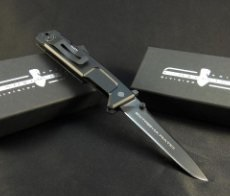knife: (117, 95, 211, 183)
